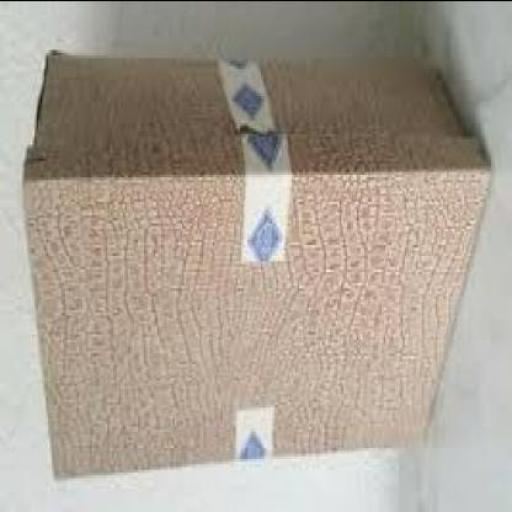cardboard: (19, 54, 489, 485)
